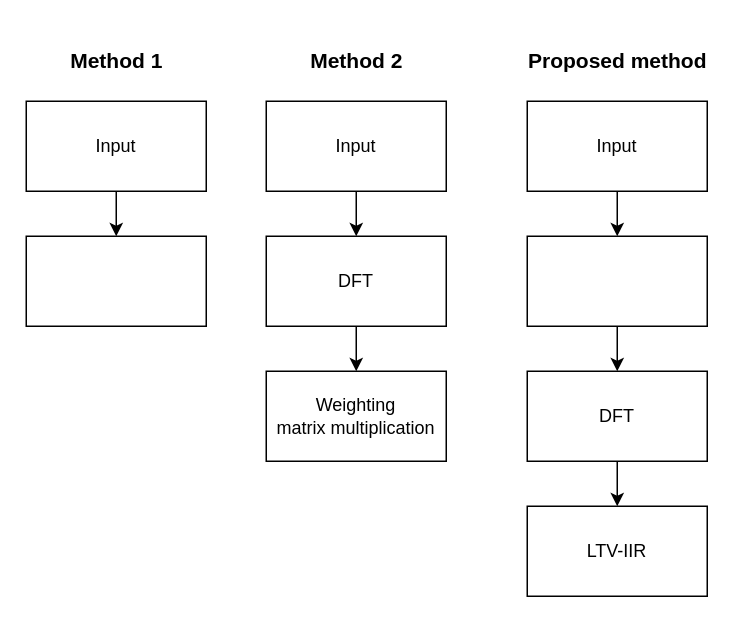
Image size: 734x623. Some labels were removed from this diagram. The box of each missing label's shape, as (x1, y1, x2, y2) in pixels:
Time-frequency atom matrix multiplication: (25, 235, 206, 326)
Windowing: (526, 235, 707, 326)
